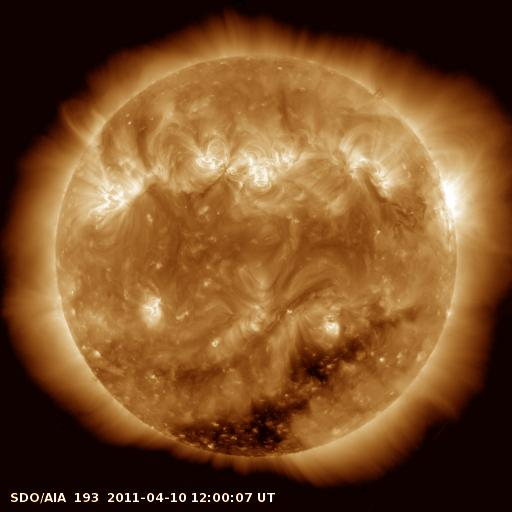coronal_hole: (164, 330, 369, 457)
